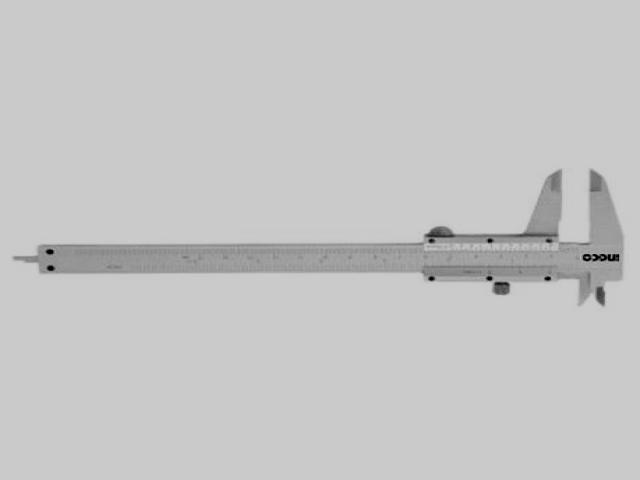Calipers: (16, 171, 624, 306)
